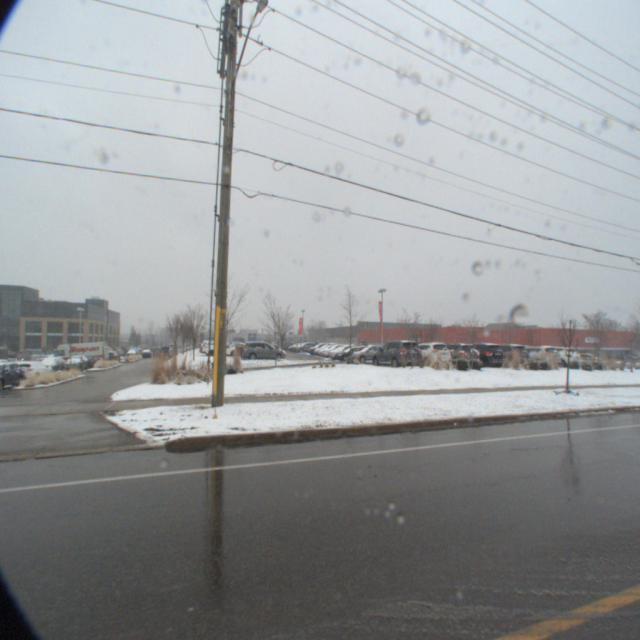Car: (427, 339, 485, 372), (400, 338, 455, 372), (449, 340, 508, 370), (372, 337, 424, 371), (238, 340, 282, 361), (348, 344, 389, 364), (200, 340, 238, 360), (334, 346, 370, 362), (292, 342, 316, 353)
Truck: (37, 343, 103, 372)
